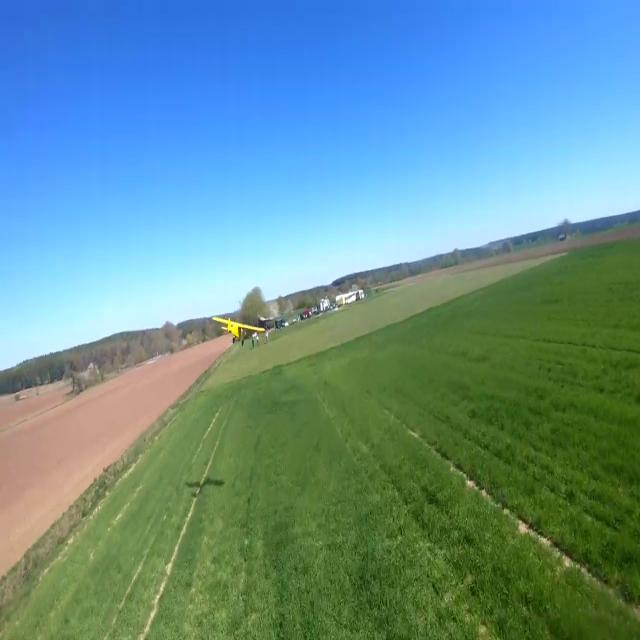iha: (208, 308, 266, 342)
